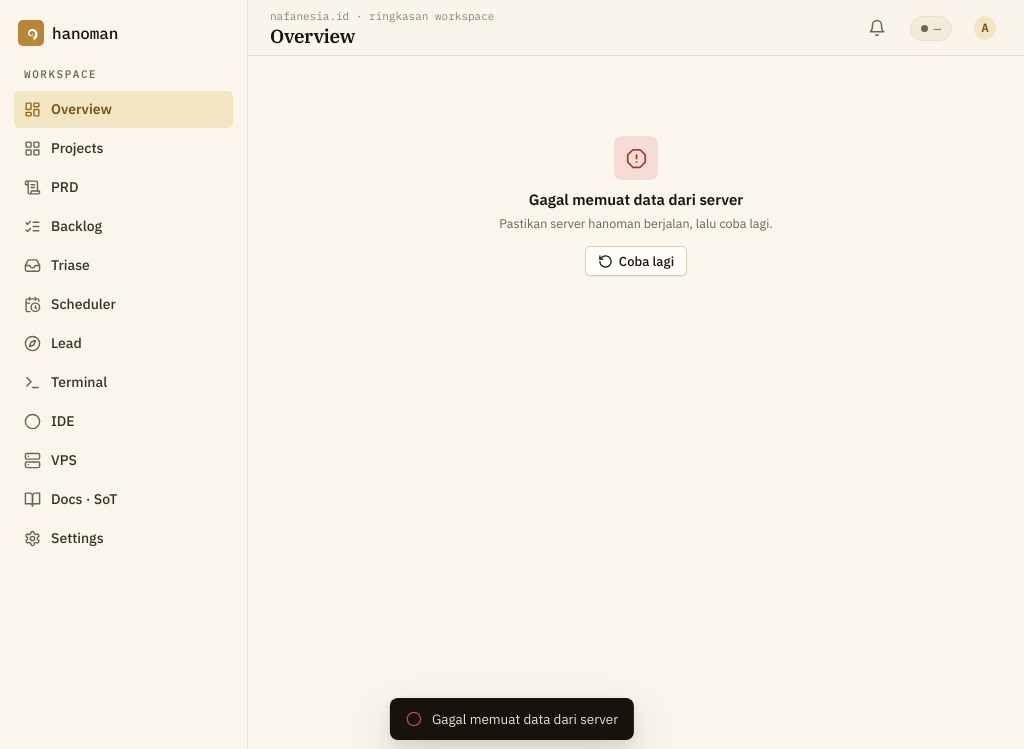
app load states › shows the error state on a failed fetch, then the empty state after retry
The width and height of the screenshot is (1024, 749).
Expected: the message is shown, x1=499 y1=136 x2=773 y2=276
Step 1. Click the text "Coba lagi" → (646, 261), box x1=619 y1=255 x2=674 y2=268
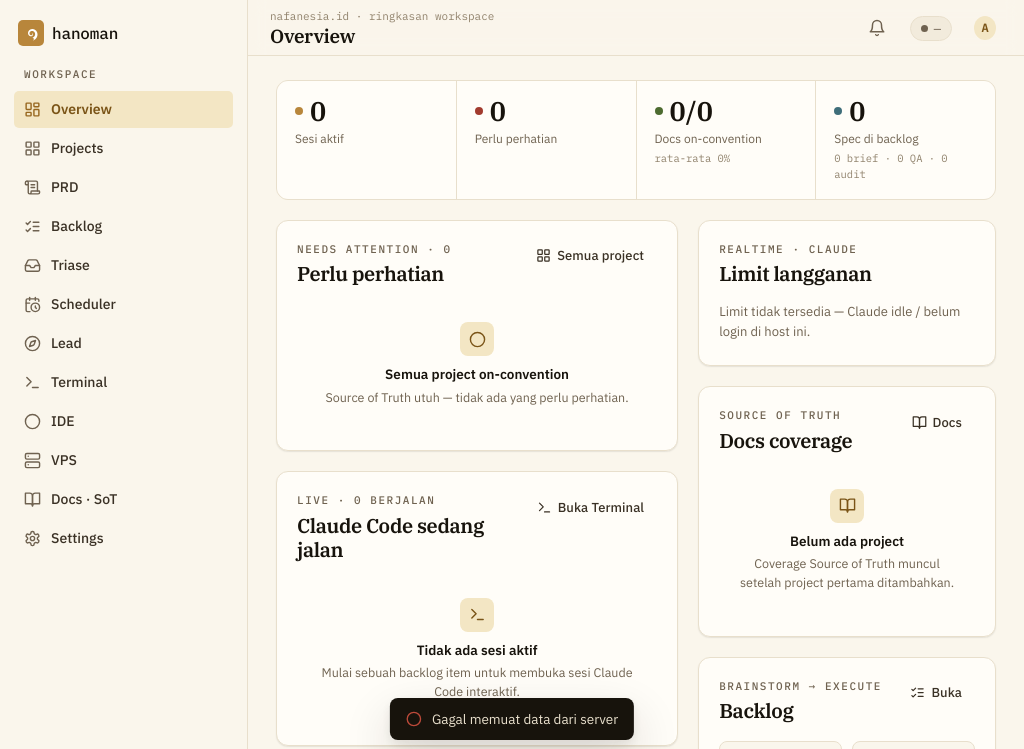
Expected: the text "Belum ada project" is shown, x1=790 y1=532 x2=904 y2=550
Expected: the message "Gagal memuat data dari server Pastikan server hanoman berjalan, lalu coba lagi." is gone
